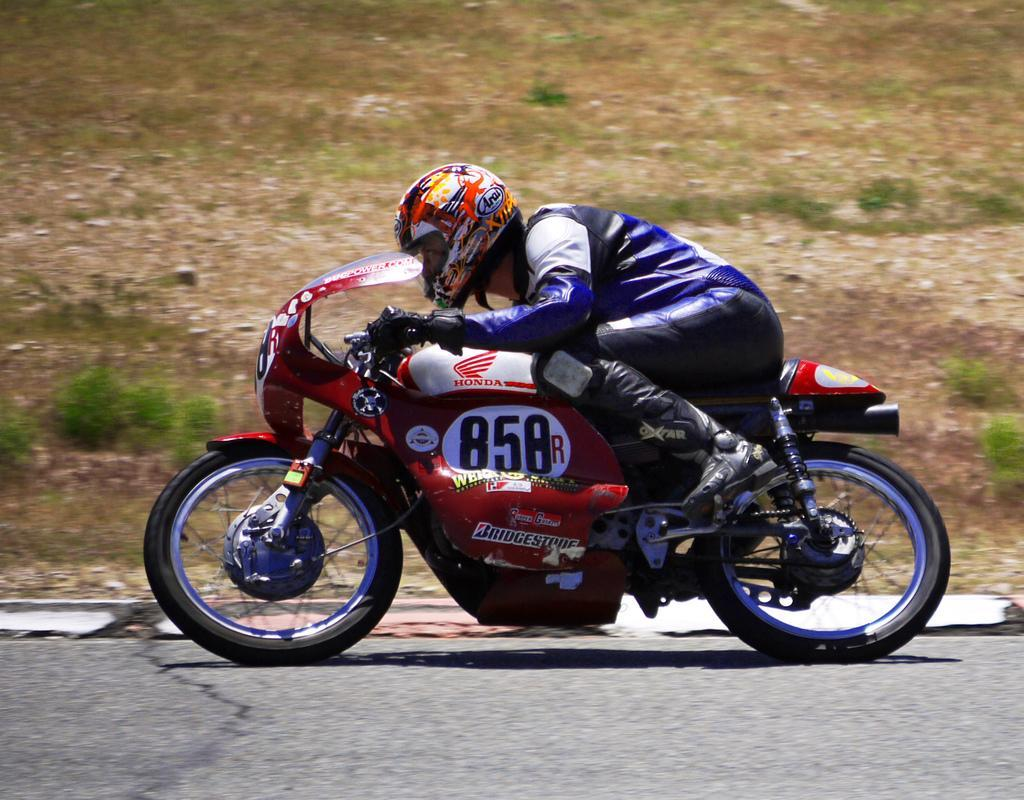helmet: (393, 162, 525, 312)
